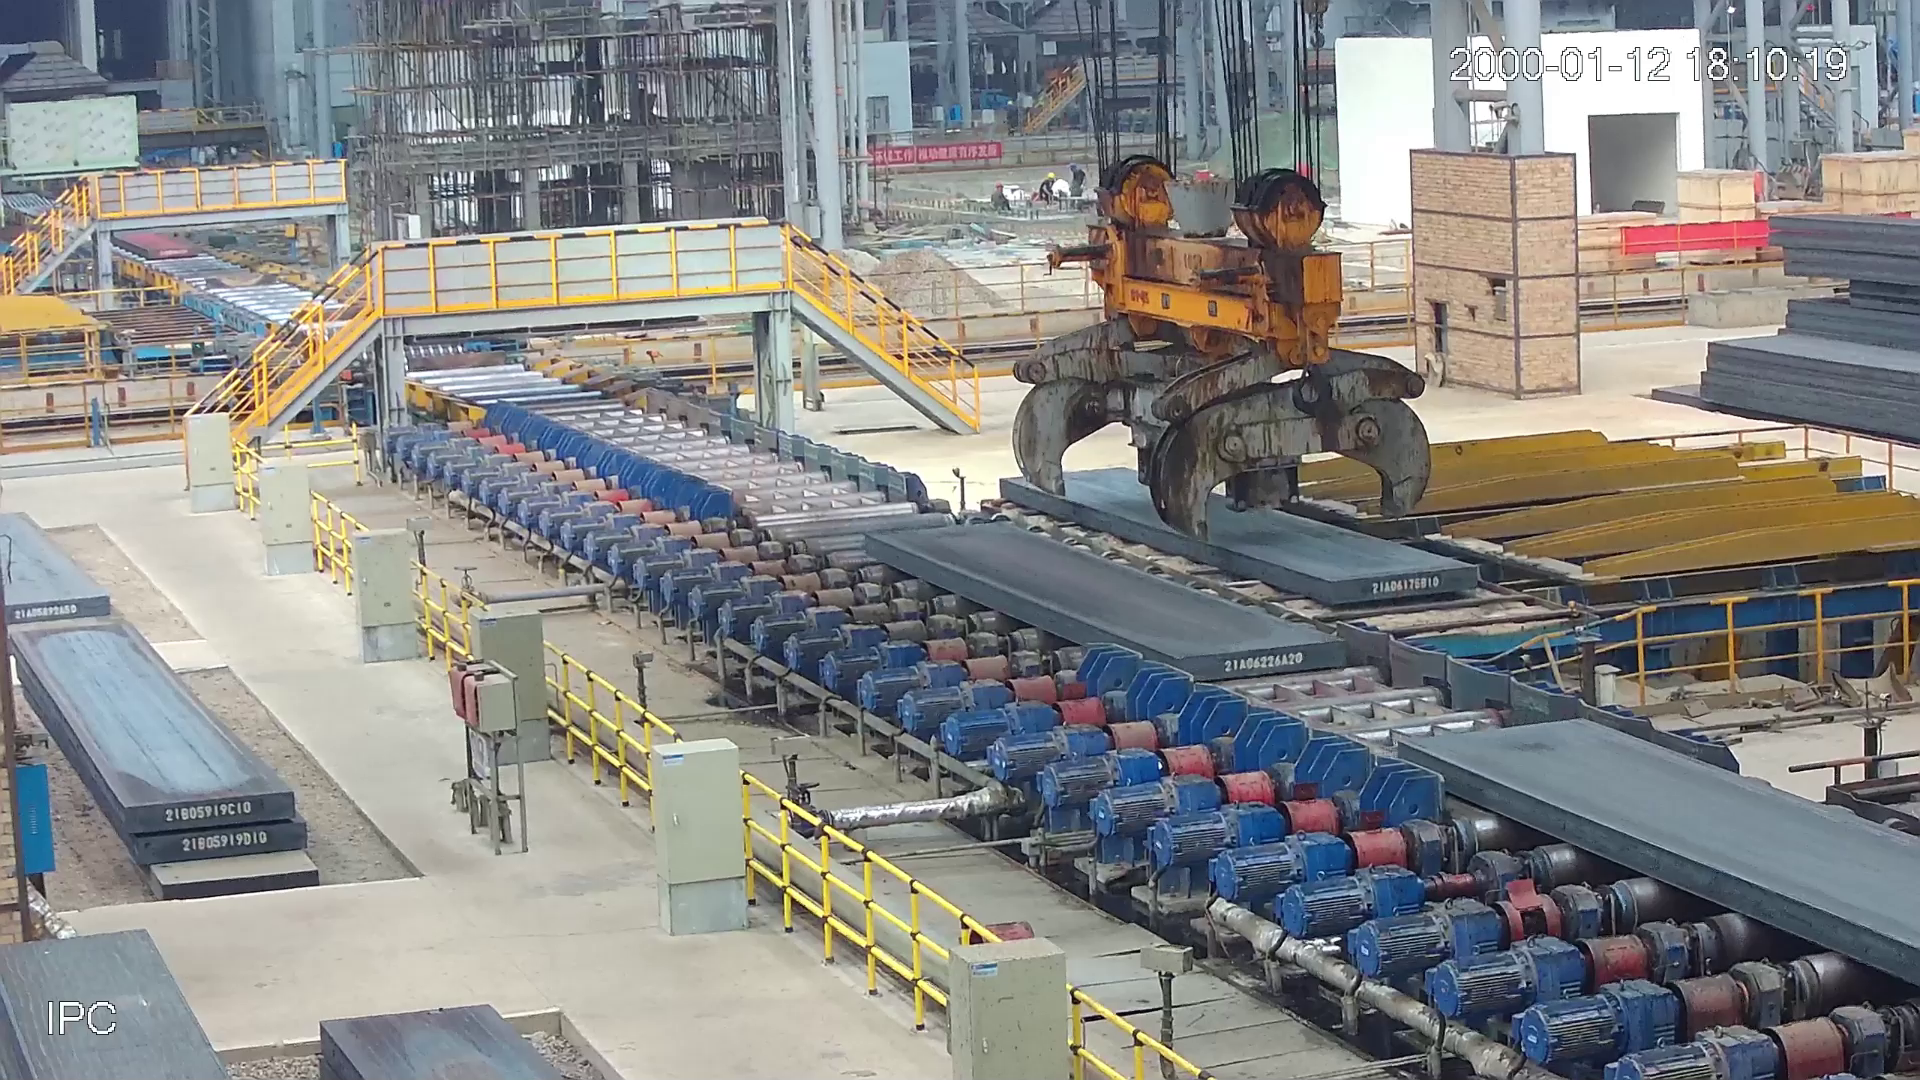craneandslab: (998, 150, 1486, 607)
slab: (1391, 717, 1920, 988), (847, 522, 1360, 688), (108, 227, 208, 264)
